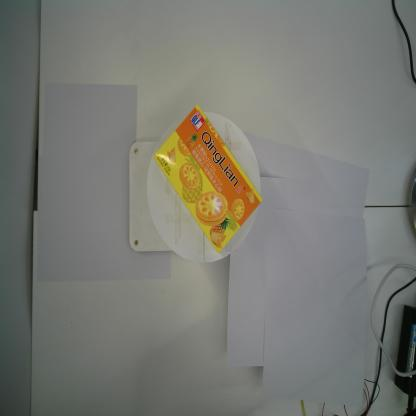Dessert: (152, 102, 264, 255)
